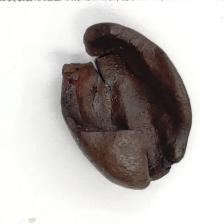NG: (127, 35, 184, 183), (56, 18, 125, 109), (69, 110, 126, 160)
